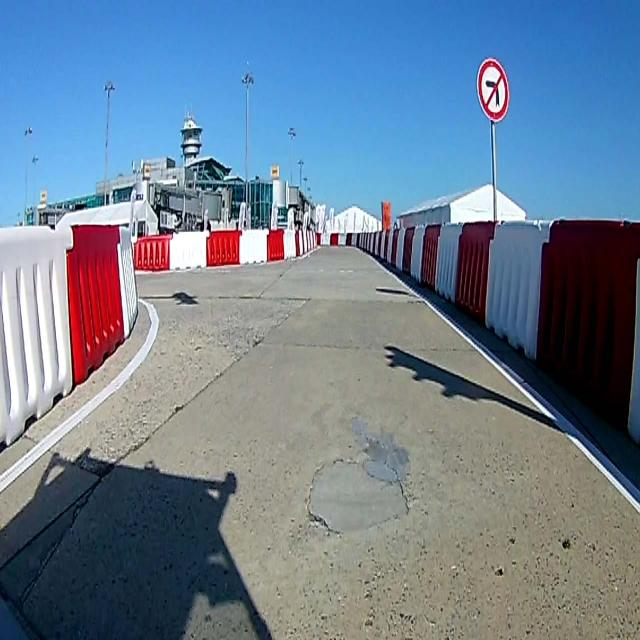soladonulmez: (478, 60, 508, 120)
